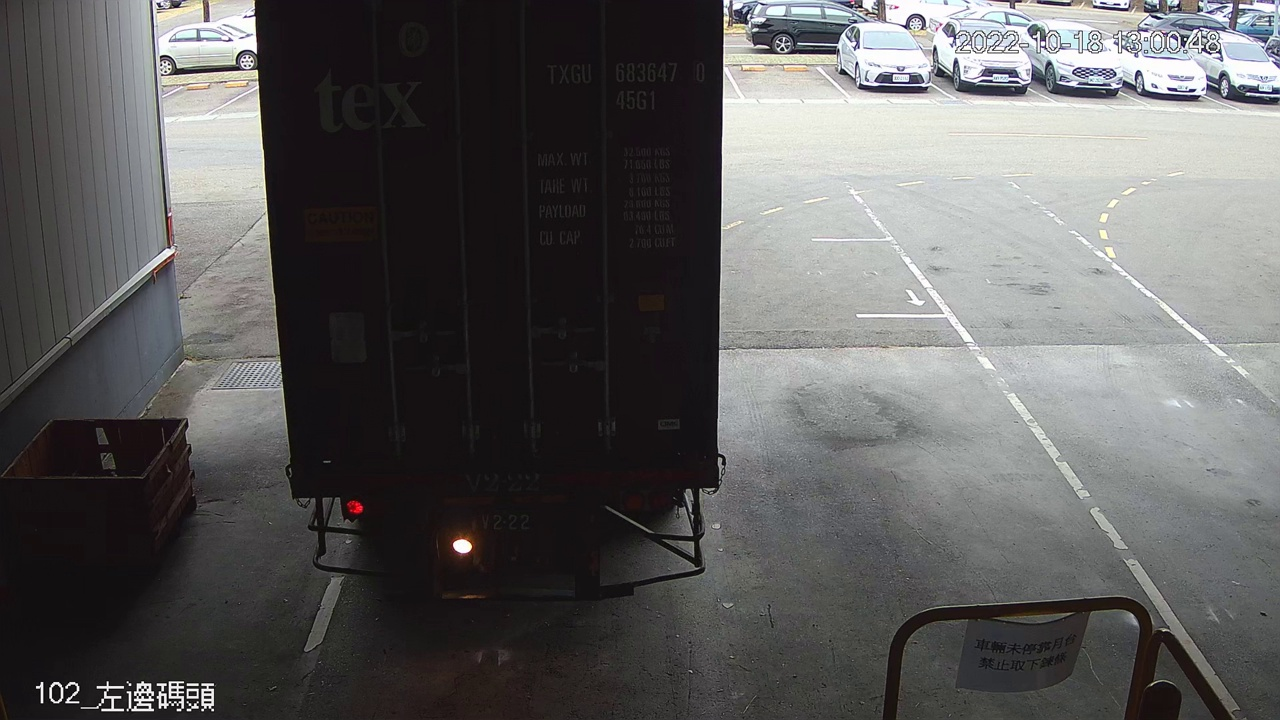container: (539, 53, 715, 117)
